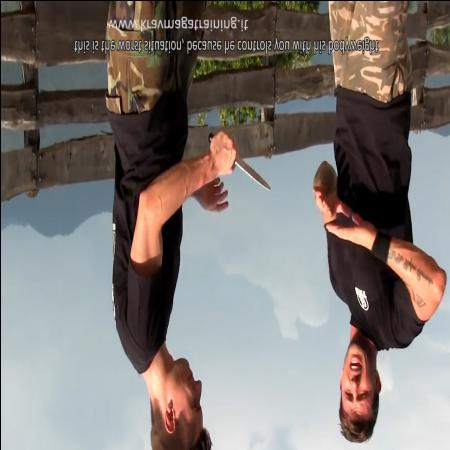long weapon: (205, 124, 274, 197)
